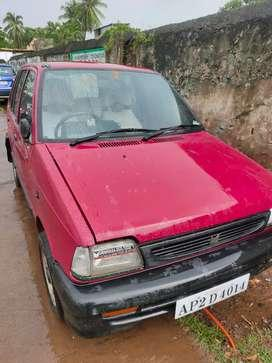AP2D4014: (174, 272, 248, 319)
